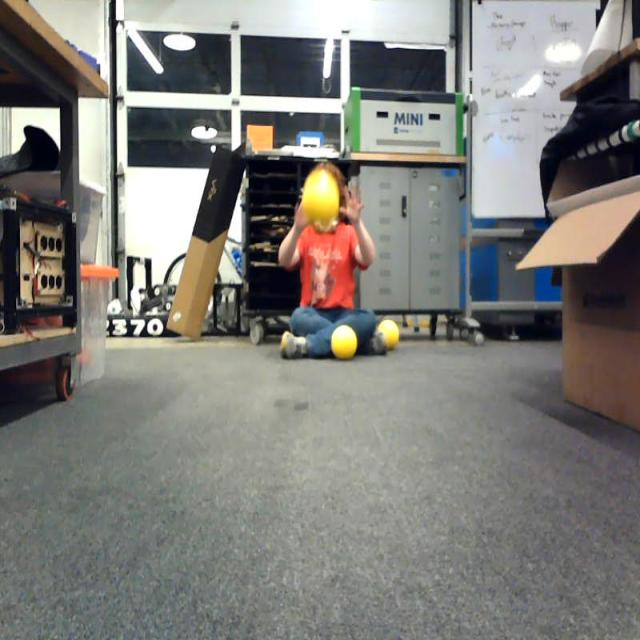Fuel: (303, 173, 339, 221), (332, 326, 357, 359), (378, 320, 399, 350)
